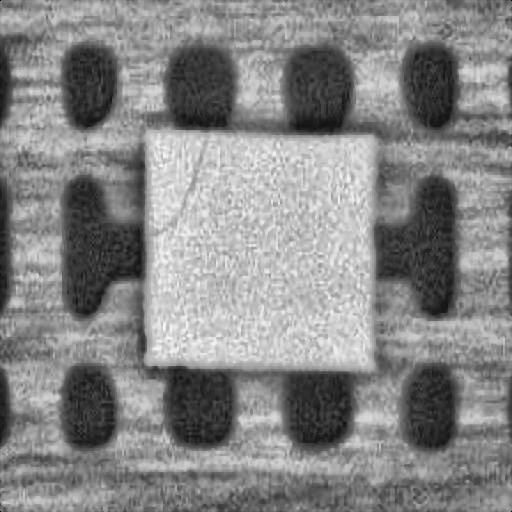DIE_CRACK: (144, 130, 209, 239)
